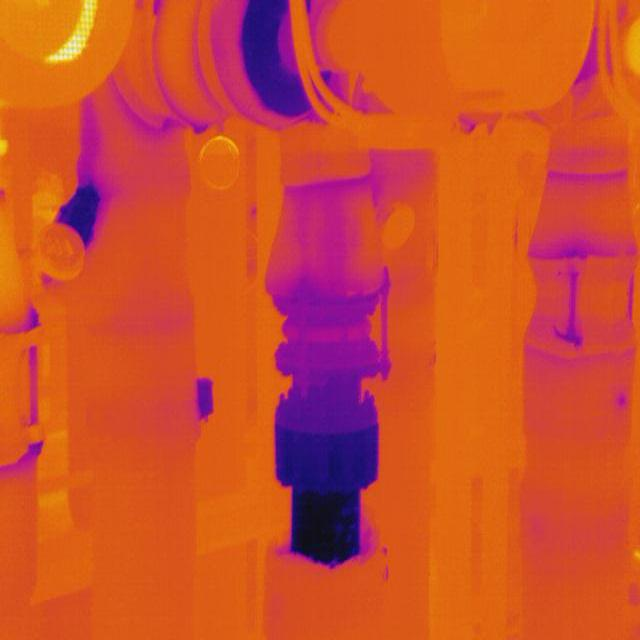leakage: (61, 178, 100, 234)
